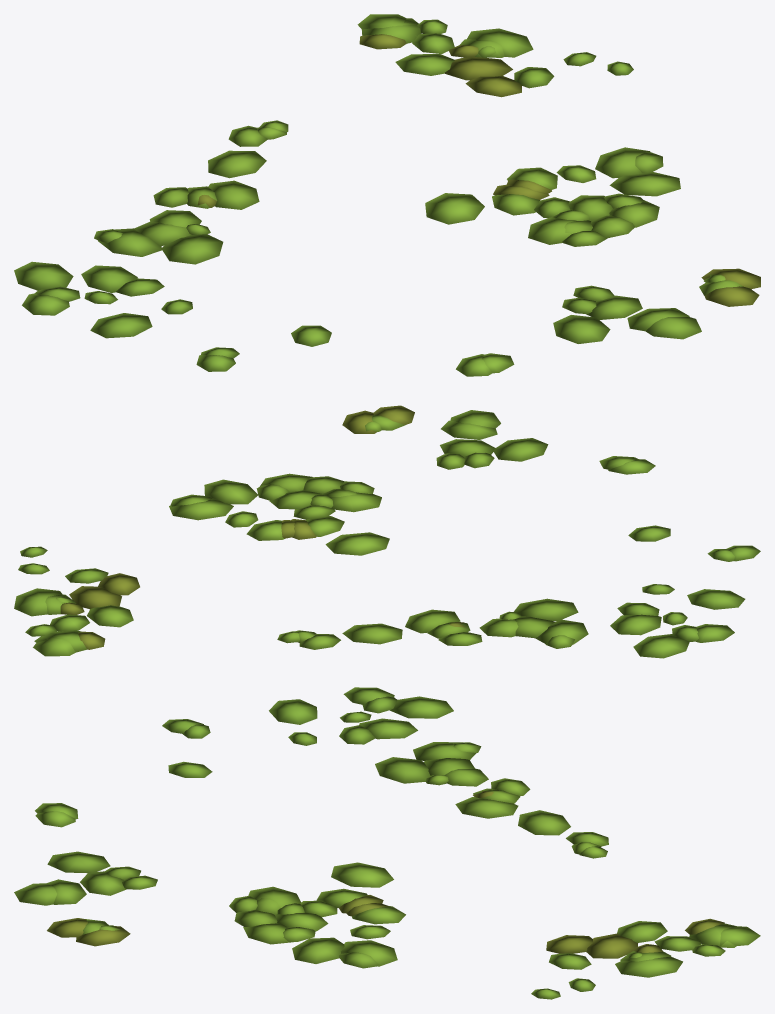
The model's file is mire_duckweed_lod1.glb.
3 views of the same model, one above another, from view 1: azimuth 30°, elevation 25°; view 2: azimuth 150°, elevation 25°; view 3: azimuth 270°, elevation 25° (orthographic). The views are drawn at different scales.
Parts seen in each view (by area): view 1: mire_duckweed.001; view 2: mire_duckweed.001; view 3: mire_duckweed.001.
Part boxes in pixels (x1,y1,x2,y2): mire_duckweed.001: (14,14,760,376); mire_duckweed.001: (14,405,760,658); mire_duckweed.001: (14,687,760,999).
Size of the model in its own units: 5.77 by 0.035 by 5.83.
